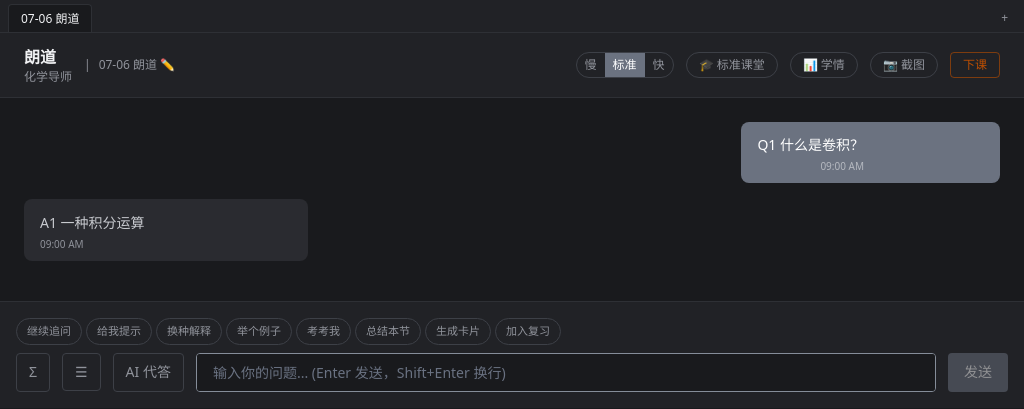
Test: ClassroomView — tabs and shortcuts › opens, isolates and closes tabs via keyboard
Expected: the text "A1 一种积分运算" is shown, x1=40 y1=211 x2=145 y2=235
Press t
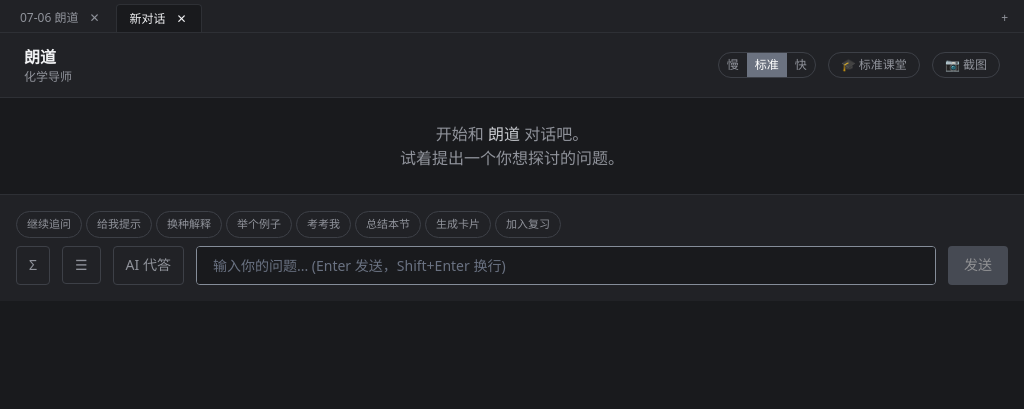
Type "新标签草稿" into the text box with placeholder "输入你的问题... (Enter 发送，Shift+Enter 换行)" at [566, 265], box x1=196 y1=246 x2=936 y2=284
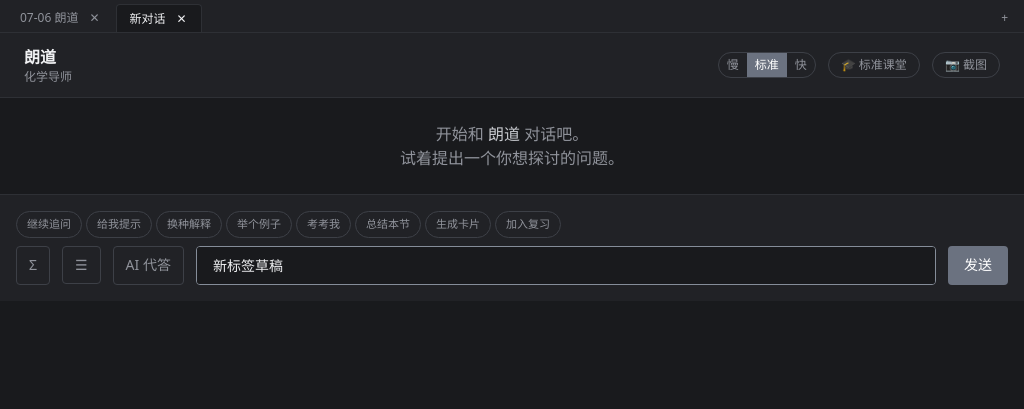
Ctrl+Tab wraps back to the first tab (empty draft).
Press Tab
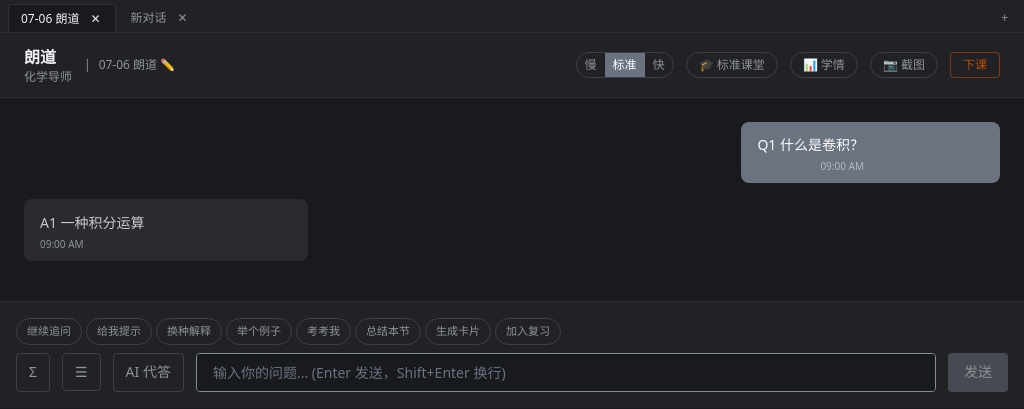
Now the text box with placeholder "输入你的问题... (Enter 发送，Shift+Enter 换行)" is empty, box x1=196 y1=352 x2=936 y2=392
Press w
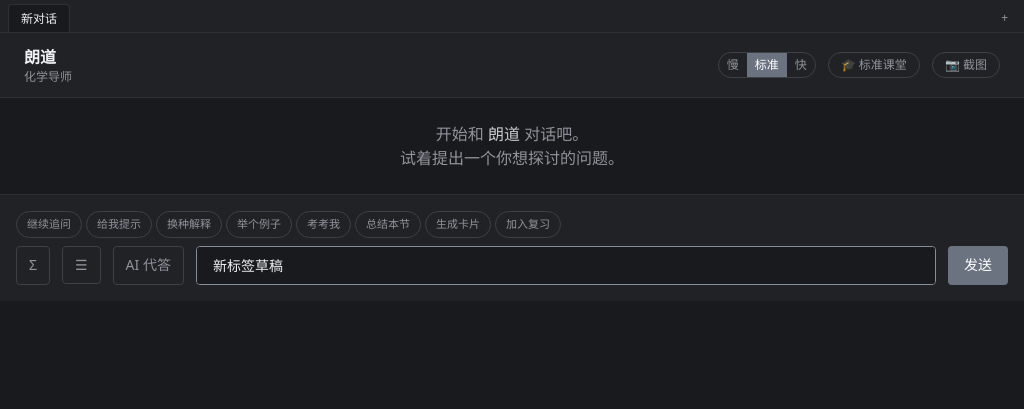
Now the tab "07-06 朗道" is gone
